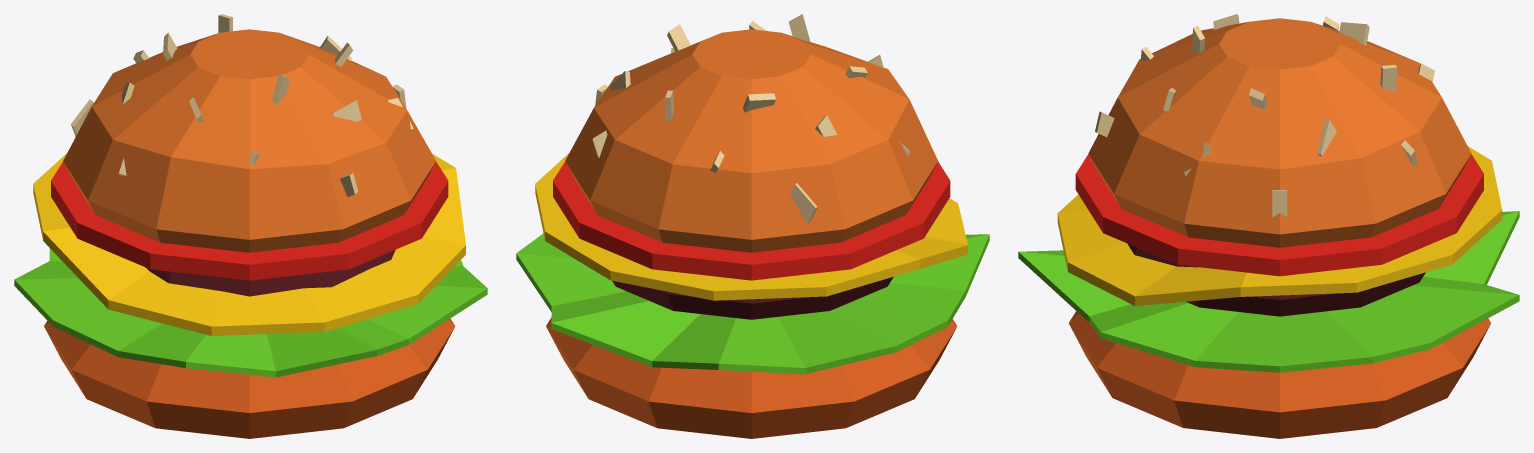
Rendered from burger.glb.
3 views of the same model, side by side, from view 1: azimuth 30°, elevation 25°; view 2: azimuth 150°, elevation 25°; view 3: azimuth 270°, elevation 25° (orthographic). The views are drawn at different scales.
Visible parts, largest first — view 1: BunTop, BunBottom, Cheese, Lettuce, Tomato, Sesame, Patty; view 2: BunTop, Lettuce, BunBottom, Tomato, Cheese, Patty, Sesame; view 3: BunTop, Lettuce, BunBottom, Cheese, Tomato, Patty, Sesame.
Part boxes in pixels (left/top/right/bottom): BunTop: left=63, top=29, right=435, bottom=252; BunBottom: left=44, top=318, right=455, bottom=438; Cheese: left=33, top=153, right=465, bottom=335; Lettuce: left=14, top=248, right=487, bottom=377; Tomato: left=51, top=161, right=448, bottom=280; Sesame: left=71, top=14, right=413, bottom=196; Patty: left=145, top=250, right=395, bottom=296; BunTop: left=565, top=29, right=937, bottom=252; Lettuce: left=516, top=233, right=989, bottom=374; BunBottom: left=546, top=318, right=957, bottom=438; Tomato: left=553, top=161, right=950, bottom=280; Cheese: left=535, top=153, right=967, bottom=300; Patty: left=612, top=277, right=893, bottom=319; Sesame: left=592, top=14, right=909, bottom=223; BunTop: left=1088, top=18, right=1471, bottom=247; Lettuce: left=1018, top=211, right=1519, bottom=372; BunBottom: left=1068, top=311, right=1490, bottom=438; Cheese: left=1057, top=146, right=1502, bottom=305; Tomato: left=1075, top=154, right=1483, bottom=276; Patty: left=1127, top=243, right=1425, bottom=316; Sesame: left=1095, top=14, right=1434, bottom=217.
Bounding box in the file's own units: 2.6 × 2.16 × 2.8.
